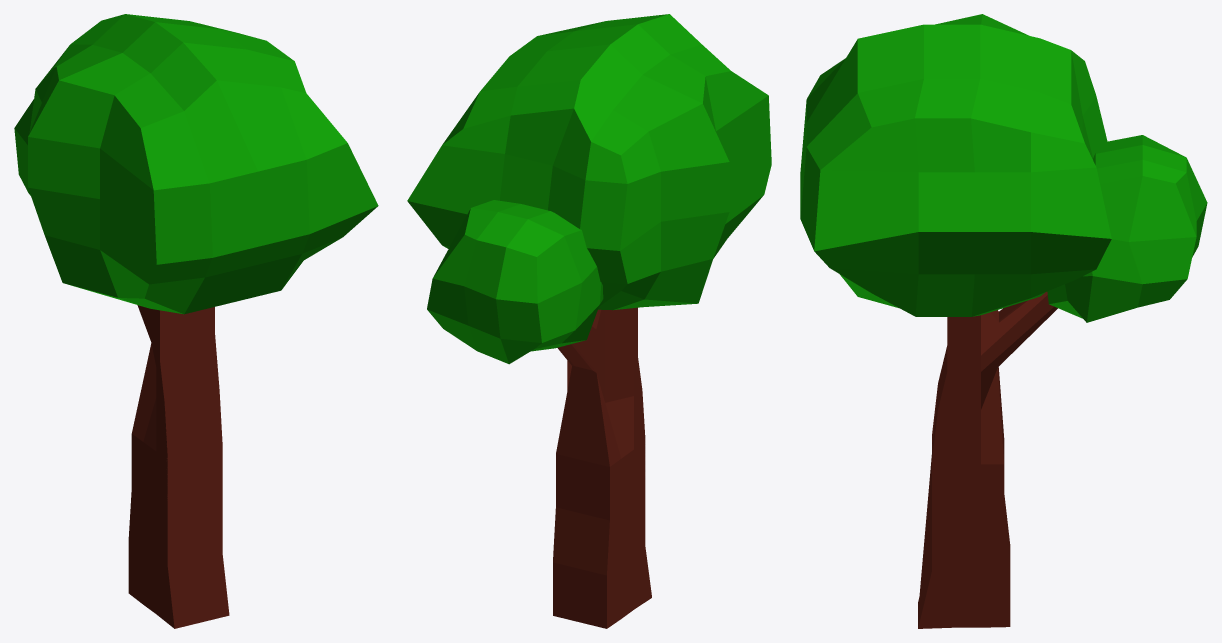
The model's file is first drawing tree.glb.
3 renders of one model, left to right at view 1: azimuth 30°, elevation 25°; view 2: azimuth 150°, elevation 25°; view 3: azimuth 270°, elevation 25°, orthographic.
Visible parts, largest first — view 1: leaf big, trunk, leaf small; view 2: leaf big, trunk, leaf small; view 3: leaf big, trunk, leaf small.
Part boxes in pixels (x1,y1,x2,y2): leaf big: [28, 14, 378, 314]; trunk: [128, 305, 229, 628]; leaf small: [14, 99, 33, 195]; leaf big: [407, 14, 771, 310]; trunk: [553, 307, 651, 628]; leaf small: [427, 200, 603, 364]; leaf big: [800, 14, 1111, 316]; trunk: [918, 291, 1057, 628]; leaf small: [1047, 135, 1207, 322].
Size of the model in its own units: 2.83 by 5.72 by 3.62.
